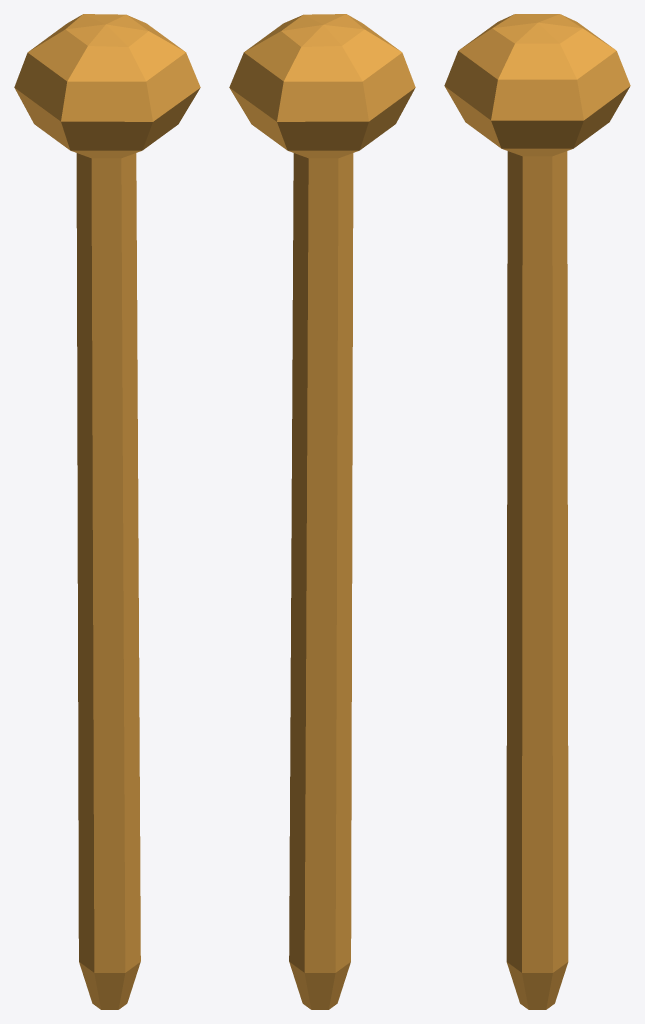
The model's file is zulu-club-zulu.glb.
3 renders of one model, left to right at view 1: azimuth 30°, elevation 25°; view 2: azimuth 150°, elevation 25°; view 3: azimuth 270°, elevation 25°, orthographic.
Visible parts, largest first — view 1: club-zulu; view 2: club-zulu; view 3: club-zulu.
Part boxes in pixels (<box>): club-zulu: <box>14,14,200,1009</box>; club-zulu: <box>229,14,415,1009</box>; club-zulu: <box>444,14,630,1009</box>.
Size of the model in its own units: 0.0832 by 0.5574 by 0.0961.
